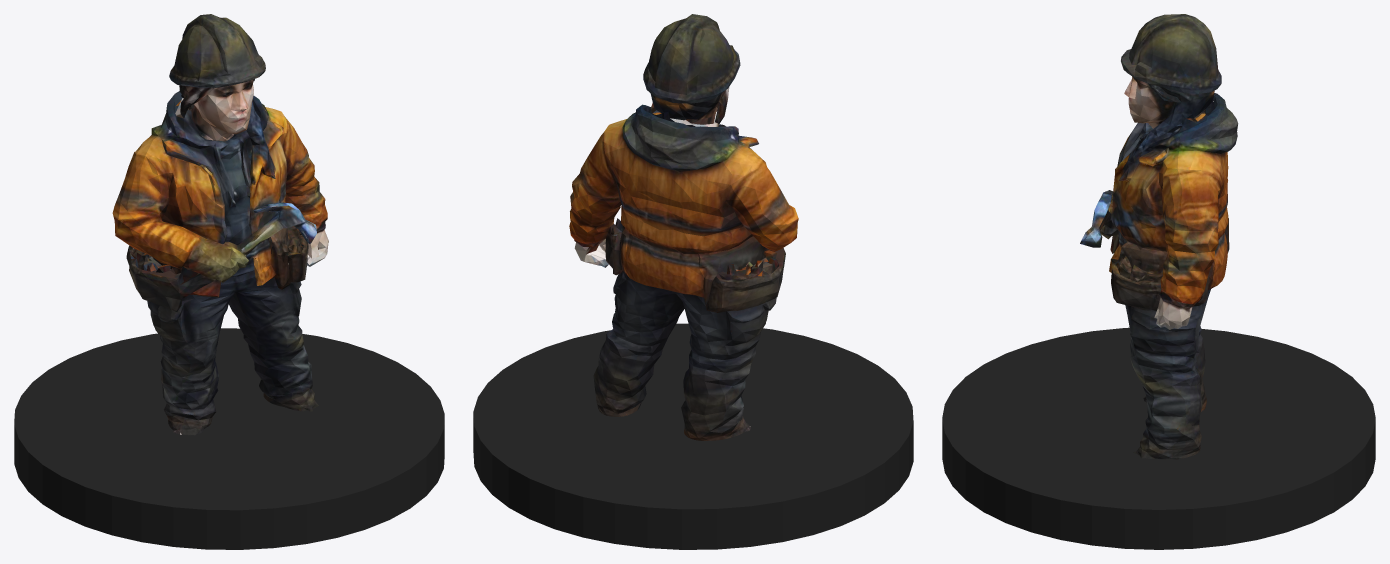
Rendered from ashley-ross.glb.
3 renders of one model, left to right at view 1: azimuth 30°, elevation 25°; view 2: azimuth 150°, elevation 25°; view 3: azimuth 270°, elevation 25°, orthographic. The views are drawn at different scales.
Parts seen in each view (by area): view 1: base, figure; view 2: base, figure; view 3: base, figure.
Boxes of the visible parts, x1,y1,x2,y2 form: base: [14, 328, 444, 549]; figure: [112, 14, 328, 435]; base: [473, 323, 913, 549]; figure: [569, 14, 798, 440]; base: [942, 327, 1375, 549]; figure: [1080, 14, 1238, 459].
Bounding box in the file's own units: 1.18 × 1.32 × 1.18.
2 materials, 1 textured.
